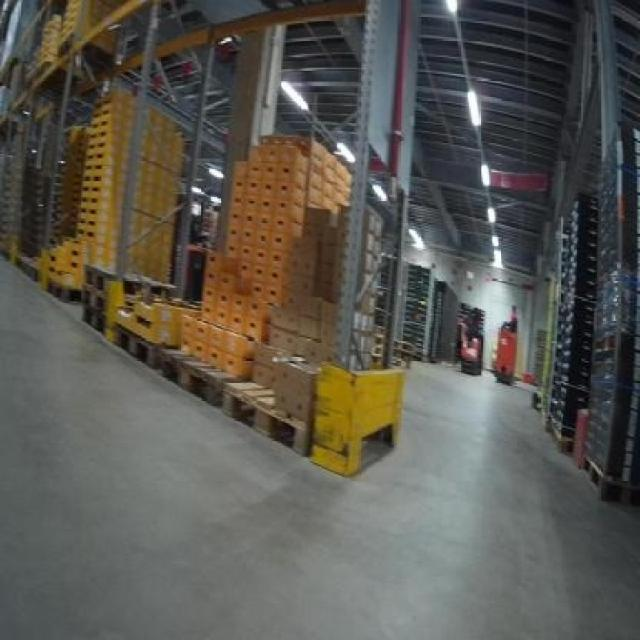floor: (0, 256, 637, 637)
pallets: (309, 362, 402, 472)
